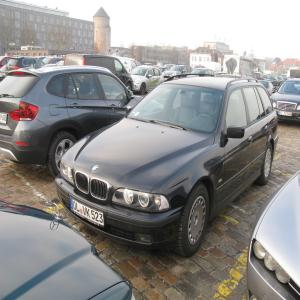Vehicle-registration-plate: (71, 198, 106, 228), (1, 114, 8, 125), (279, 112, 293, 117)
